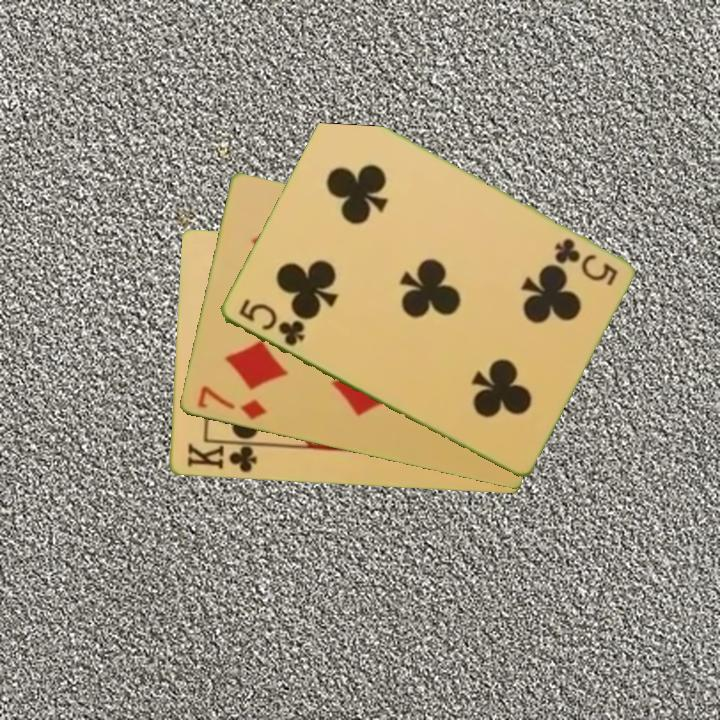5c: (234, 295, 308, 350), (550, 234, 620, 288)
7d: (193, 382, 269, 423)
Kc: (183, 439, 264, 476)
